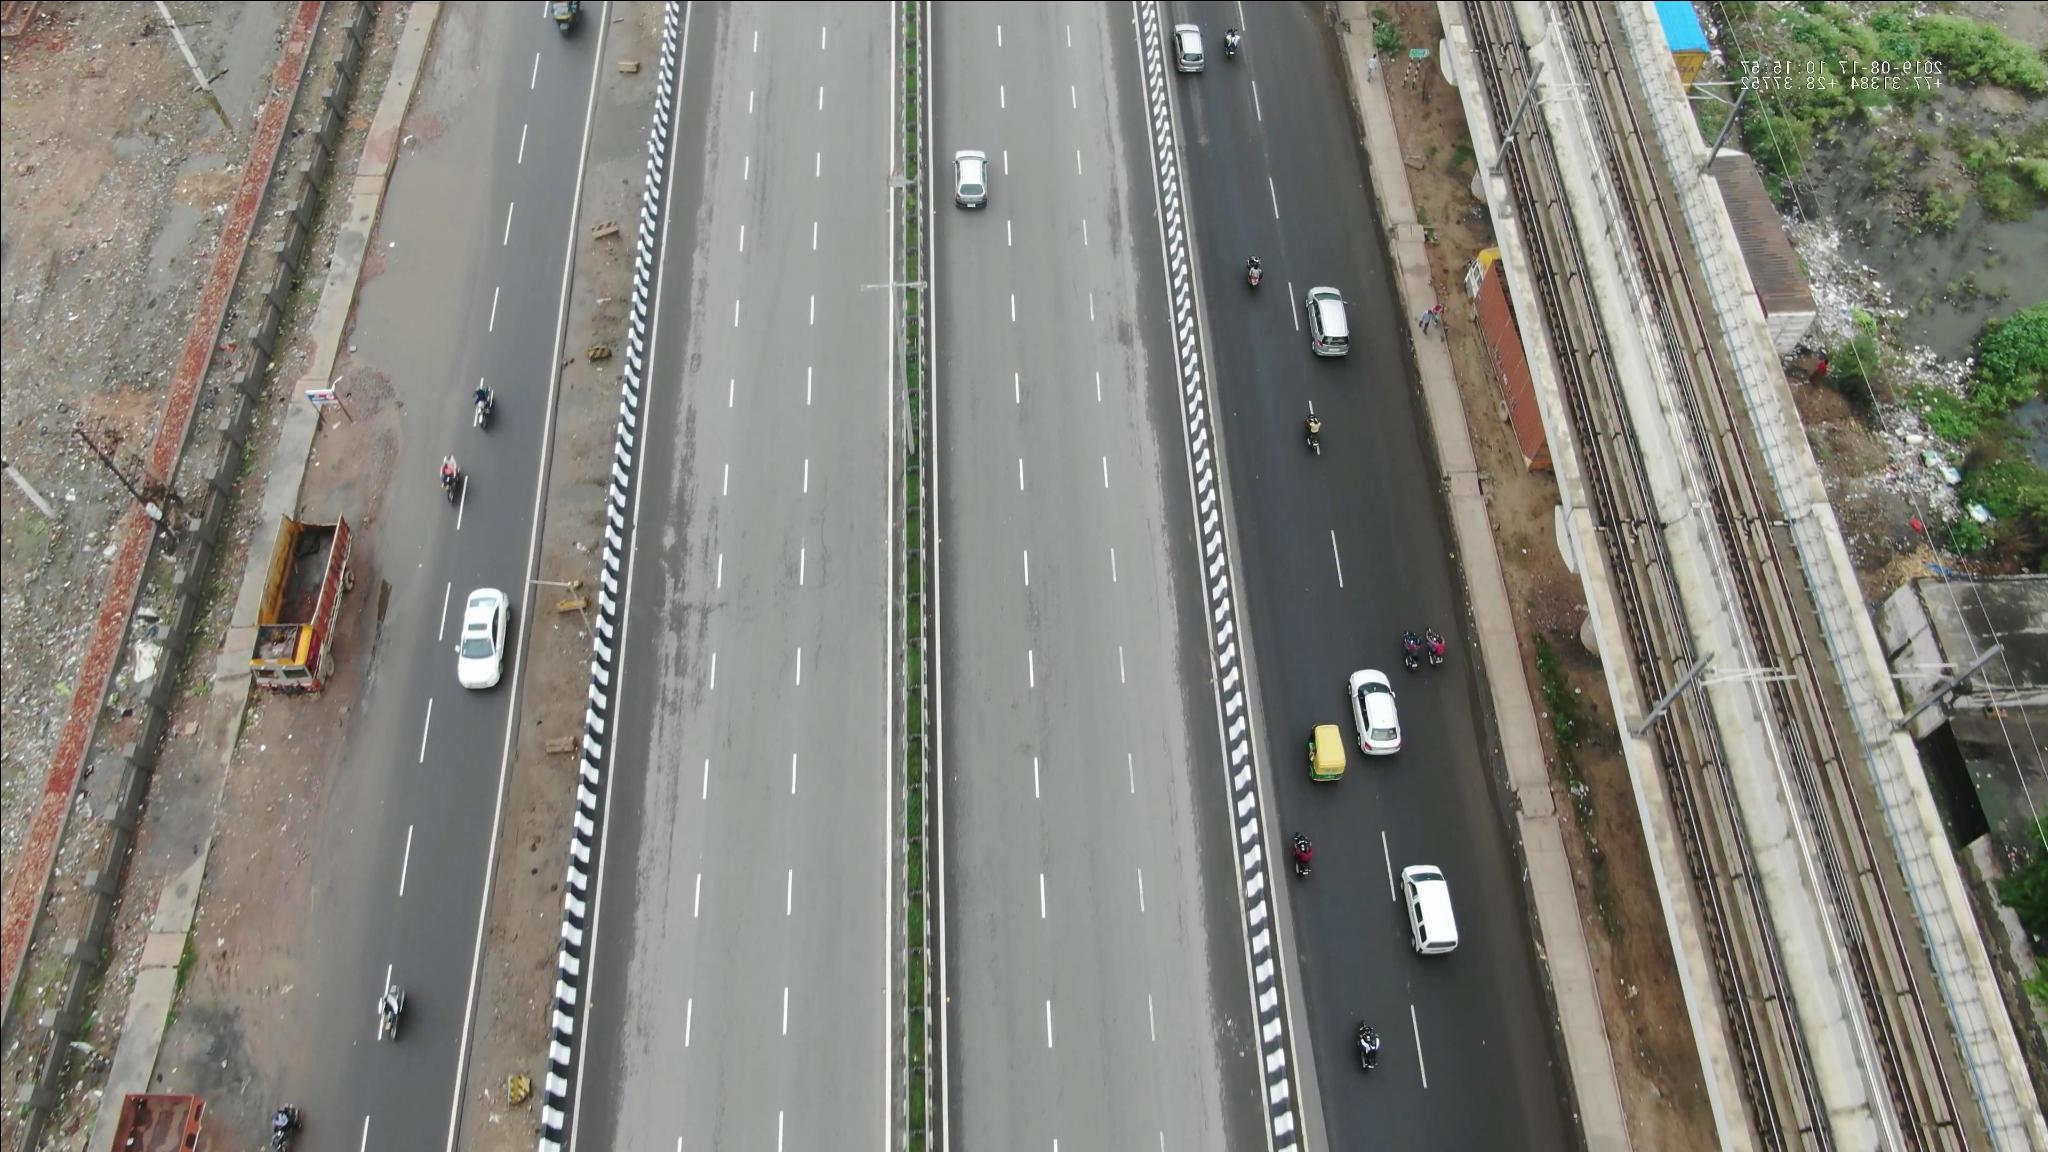Cracks: (775, 459, 845, 699)
Muddy_road: (233, 706, 409, 958), (430, 6, 535, 128)
Ravelling: (657, 428, 722, 745)
Waterlogging: (363, 145, 497, 385)
